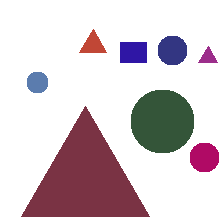circle: (131, 90, 193, 152), (158, 36, 186, 64), (190, 143, 218, 171), (27, 72, 47, 92)
rectangle: (120, 42, 146, 62)
triangle: (21, 106, 149, 216), (79, 29, 106, 52), (198, 46, 217, 62)
